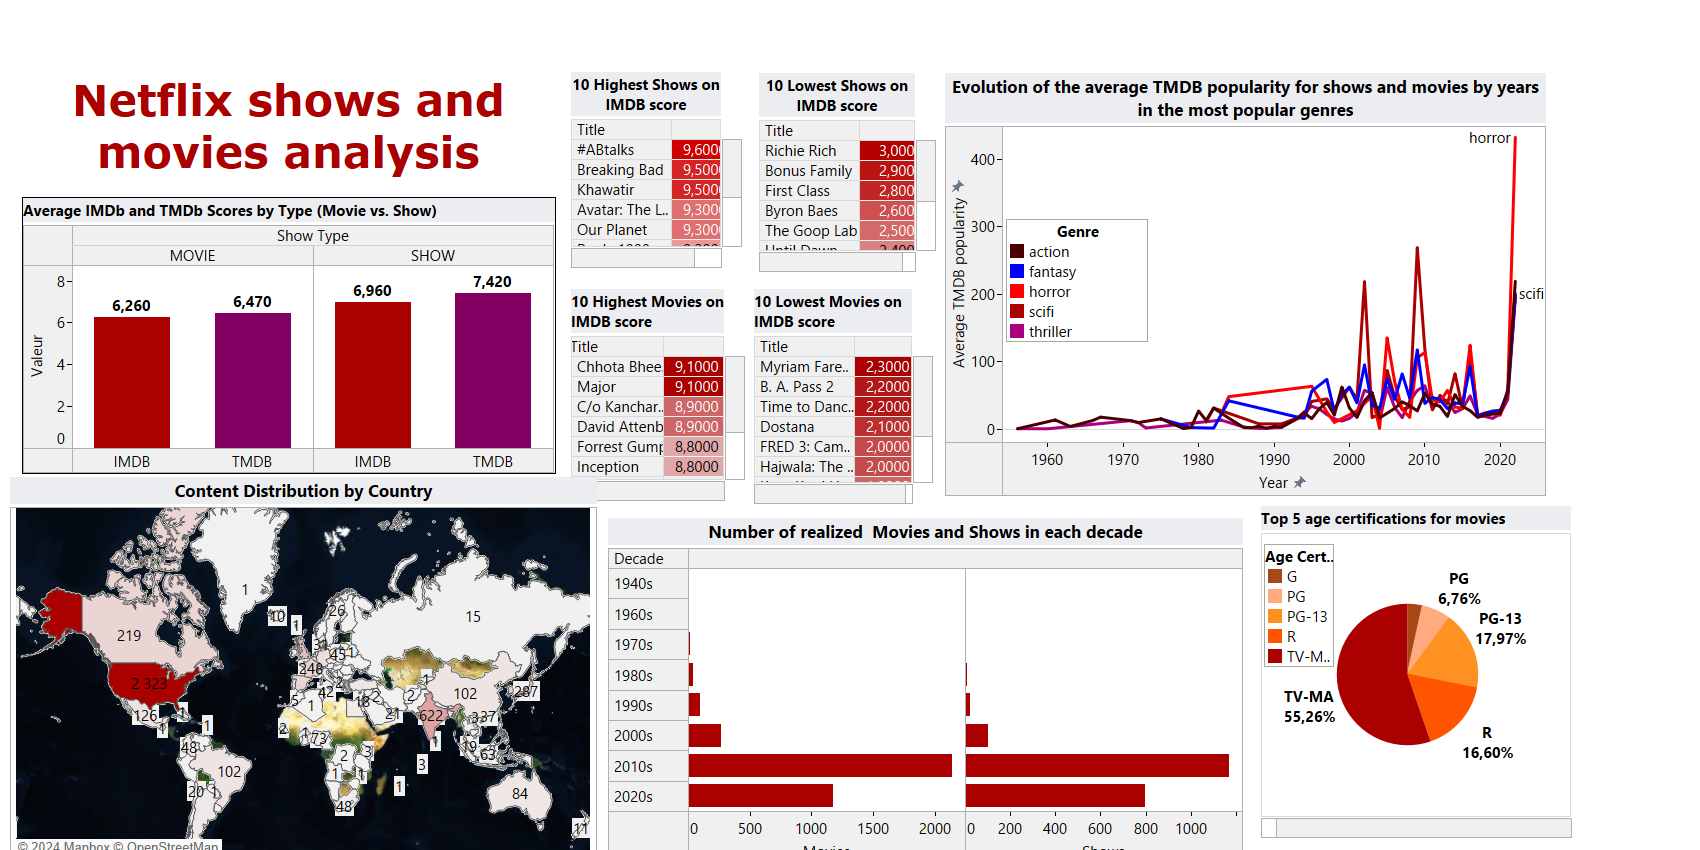

The page's visual inventory and layout, read from the dashboard file:
{"tool":"tableau","page":{"name":"Netflix shows and movies analysis","canvas":[1700,850],"ordinal":0},"visuals":[{"type":"text","box":[15,42,547,167]},{"type":"worksheet","title":"10 Highest Shows on IMDB score ","mark":"Square","rows":["title"],"box":[571,72,171,196]},{"type":"worksheet","title":"10 Lowest Shows on IMDB score","mark":"Square","rows":["title"],"box":[759,73,177,199]},{"type":"worksheet","title":"Evolution of the average TMDB popularity for shows and movies by years in the most popular genres","mark":"Automatic","rows":["avg_tmdbPopularity"],"cols":["year"],"box":[945,73,601,423]},{"type":"worksheet","title":"Average IMDb and TMDb Scores by Type (Movie vs. Show)","mark":"Automatic","cols":["show_type"],"box":[22,197,534,277]},{"type":"legend","title":"Evolution of the average TMDB popularity for shows and movies by years in the most popular genres","param":"[federated.0q1dscc03apcph1fcqv810p2pnnt].[none:genre:nk]","box":[1006,219,142,123]},{"type":"worksheet","title":"10 Highest Movies on IMDB score","mark":"Square","rows":["title"],"box":[571,289,174,212]},{"type":"worksheet","title":"10 Lowest Movies on IMDB score","mark":"Square","rows":["title"],"box":[754,289,179,215]},{"type":"legend","title":"Number of realized  Movies and Shows in each decade","param":"[federated.0mdnzzr03s10f11bk2ywp0hxsqsc].[:Measure Names]","box":[862,518,142,63]},{"type":"legend","title":"Top 5 age certifications for movies","param":"[federated.0iehppg0pxoms21e1bkst092do5f].[none:age_certification:nk]","box":[1264,544,70,139]}]}

Visuals, with their boxes in screenshot pixels (x1, y1, x2, y2), scaled from the page's 1700x850 canvas onto the 1700x850 screenshot:
text: l=15, t=42, r=562, b=209
"10 Highest Shows on IMDB score " worksheet (Square marks): l=571, t=72, r=742, b=268
"10 Lowest Shows on IMDB score" worksheet (Square marks): l=759, t=73, r=936, b=272
"Evolution of the average TMDB popularity for shows and movies by years in the most popular genres" worksheet: l=945, t=73, r=1546, b=496
"Average IMDb and TMDb Scores by Type (Movie vs. Show)" worksheet: l=22, t=197, r=556, b=474
"Evolution of the average TMDB popularity for shows and movies by years in the most popular genres" legend: l=1006, t=219, r=1148, b=342
"10 Highest Movies on IMDB score" worksheet (Square marks): l=571, t=289, r=745, b=501
"10 Lowest Movies on IMDB score" worksheet (Square marks): l=754, t=289, r=933, b=504
"Number of realized  Movies and Shows in each decade" legend: l=862, t=518, r=1004, b=581
"Top 5 age certifications for movies" legend: l=1264, t=544, r=1334, b=683
